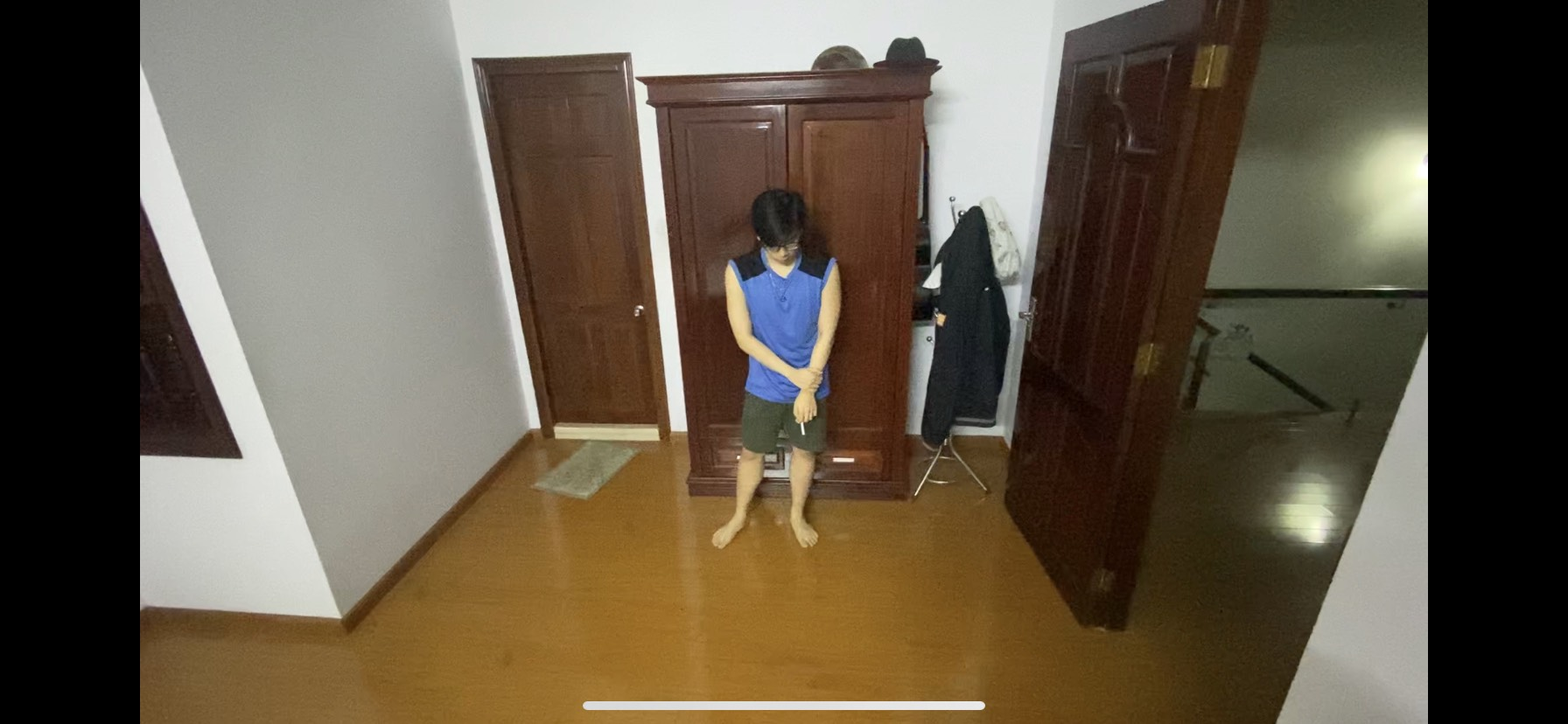cigarette: (799, 420, 808, 437)
person: (699, 178, 852, 550)
